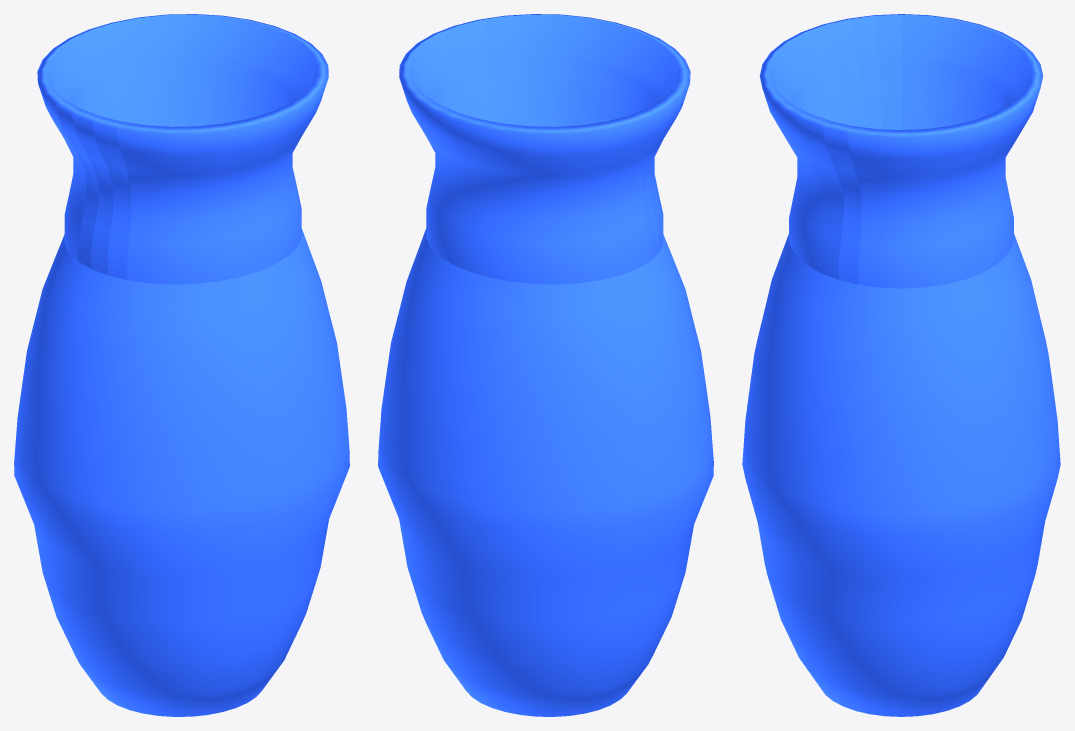
The model's file is vase3cp.glb.
The picture shows the model from 3 angles, left to right: view 1: azimuth 30°, elevation 25°; view 2: azimuth 150°, elevation 25°; view 3: azimuth 270°, elevation 25°; orthographic projection.
Parts seen in each view (by area): view 1: yellow vase; view 2: yellow vase; view 3: yellow vase.
Boxes of the visible parts, box(x1,y1,x2,y2) form: yellow vase: box(14, 14, 349, 716); yellow vase: box(378, 14, 713, 716); yellow vase: box(742, 14, 1060, 716).
Bounding box in the file's own units: 0.9003 × 1.81 × 0.8367.
